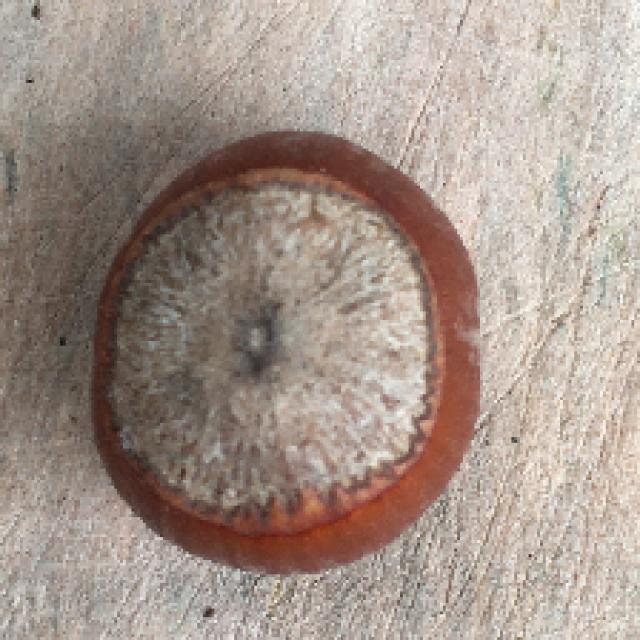QualityHazelnut: (88, 132, 481, 576)
